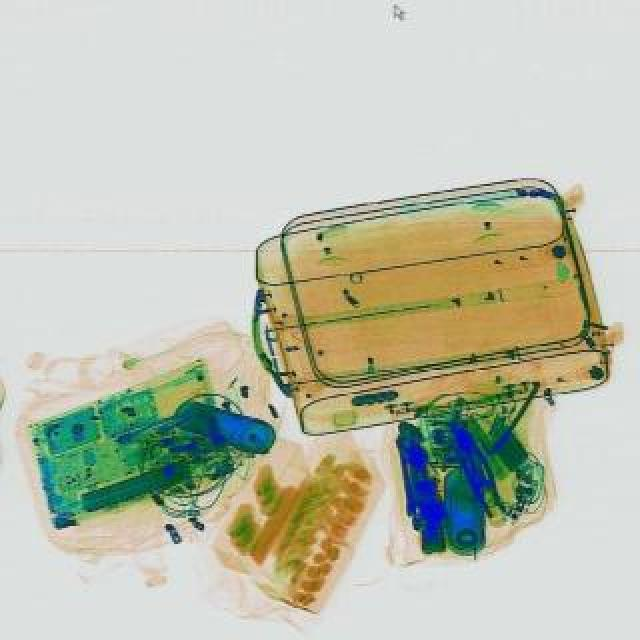wrench: (444, 430, 508, 522)
